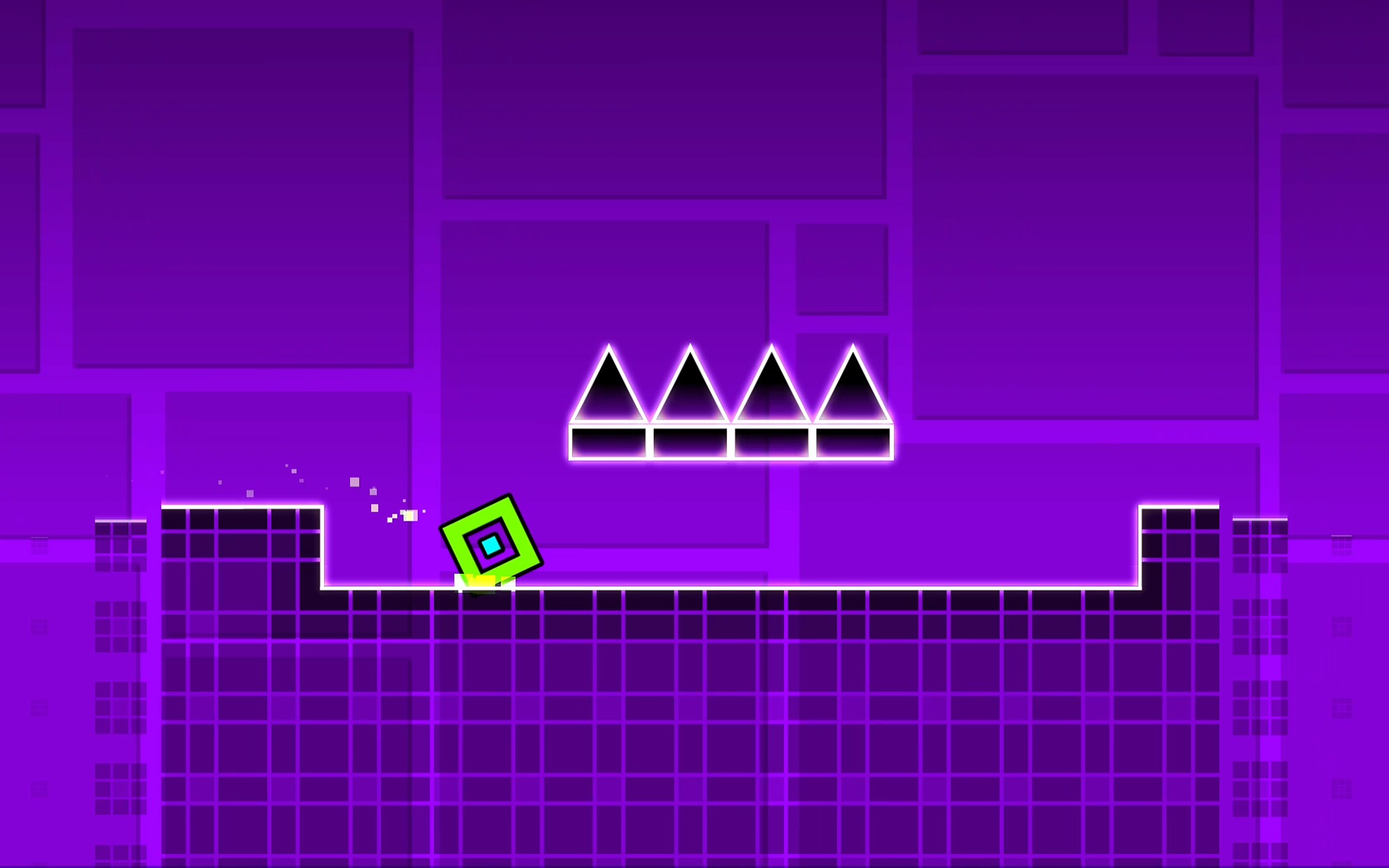Block2: (321, 578, 1139, 868), (94, 508, 322, 868), (1137, 504, 1288, 868)
Block3: (812, 420, 896, 461), (727, 423, 812, 460), (571, 424, 653, 461), (651, 423, 725, 458)
Player: (440, 493, 542, 581)
Spike: (816, 345, 891, 420), (572, 345, 646, 420), (654, 345, 727, 420), (734, 345, 807, 420)
